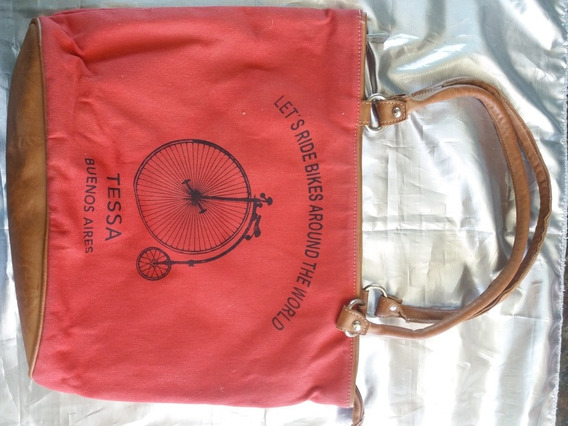cartera: (5, 5, 553, 410)
